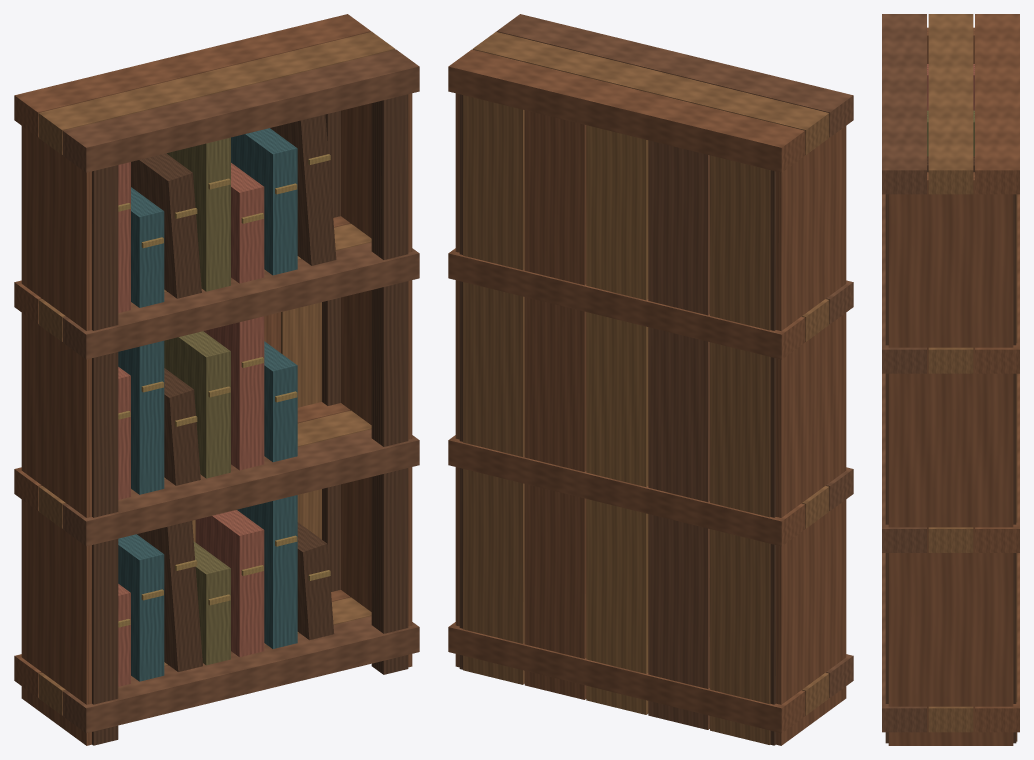
File: bookshelf.glb
3 views of the same model, side by side, from view 1: azimuth 30°, elevation 25°; view 2: azimuth 150°, elevation 25°; view 3: azimuth 270°, elevation 25° (orthographic). The views are drawn at different scales.
Parts seen in each view (by area): view 1: bookshelf; view 2: bookshelf; view 3: bookshelf.
Boxes of the visible parts, bbox=[...] form: bookshelf: bbox=[14, 14, 419, 745]; bookshelf: bbox=[448, 14, 853, 745]; bookshelf: bbox=[882, 14, 1019, 745].
Size of the model in its own units: 1.07 by 1.85 by 0.4.
Materials: 1 (1 with a texture image).
